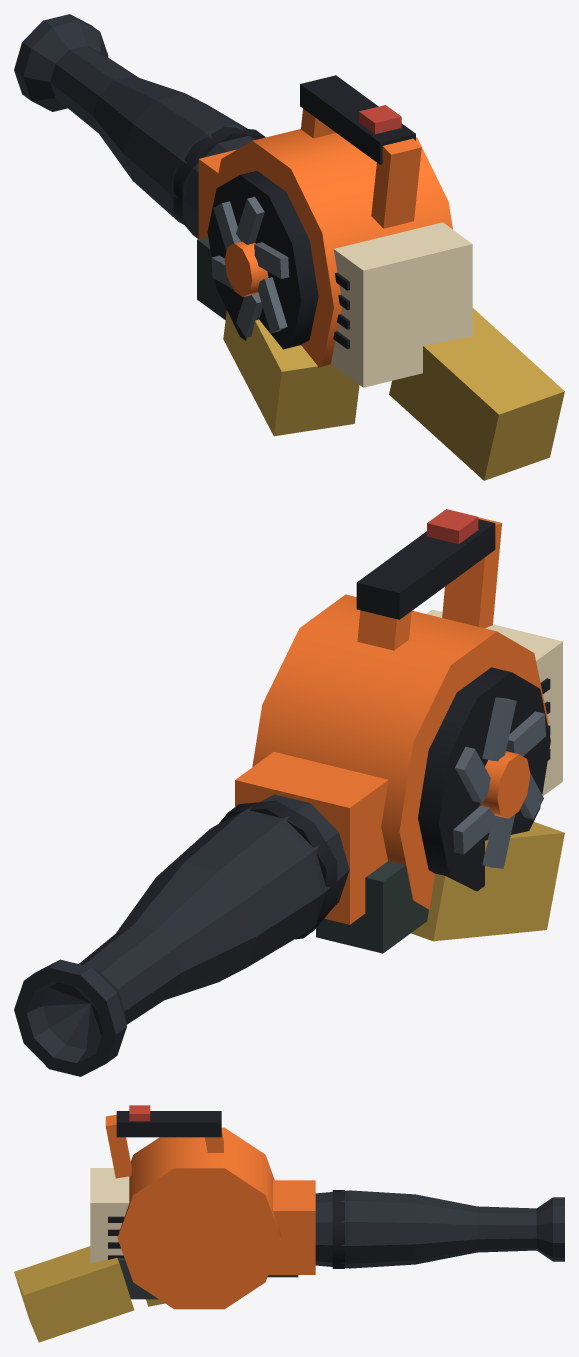
Rendered from leaf_blower.glb.
3 renders of one model, top to bottom at view 1: azimuth 30°, elevation 25°; view 2: azimuth 150°, elevation 25°; view 3: azimuth 270°, elevation 25°, orthographic. The views are drawn at different scales.
Visible parts, largest first — view 1: _MeshInstance3D_3741, _MeshInstance3D_3740, _MeshInstance3D_3768, _MeshInstance3D_3739, _MeshInstance3D_3762, _MeshInstance3D_3743, _MeshInstance3D_3745, _MeshInstance3D_3747, _MeshInstance3D_3754, _MeshInstance3D_3744, _MeshInstance3D_3742, _MeshInstance3D_3761 (+6 smaller); view 2: _MeshInstance3D_3741, _MeshInstance3D_3739, _MeshInstance3D_3743, _MeshInstance3D_3742, _MeshInstance3D_3762, _MeshInstance3D_3745, _MeshInstance3D_3761, _MeshInstance3D_3740, _MeshInstance3D_3747, _MeshInstance3D_3754, _MeshInstance3D_3744, _MeshInstance3D_3746 (+6 smaller); view 3: _MeshInstance3D_3739, _MeshInstance3D_3741, _MeshInstance3D_3768, _MeshInstance3D_3742, _MeshInstance3D_3740, _MeshInstance3D_3745, _MeshInstance3D_3754, _MeshInstance3D_3747, _MeshInstance3D_3767, _MeshInstance3D_3759.
Part boxes in pixels (<box>): _MeshInstance3D_3741: <box>14,14,255,232</box>; _MeshInstance3D_3740: <box>330,222,472,387</box>; _MeshInstance3D_3768: <box>389,308,564,480</box>; _MeshInstance3D_3739: <box>209,129,452,367</box>; _MeshInstance3D_3762: <box>223,310,359,436</box>; _MeshInstance3D_3743: <box>207,171,318,349</box>; _MeshInstance3D_3745: <box>300,75,415,164</box>; _MeshInstance3D_3747: <box>371,138,421,228</box>; _MeshInstance3D_3754: <box>173,126,265,238</box>; _MeshInstance3D_3744: <box>224,241,268,296</box>; _MeshInstance3D_3742: <box>198,149,236,238</box>; _MeshInstance3D_3761: <box>197,237,226,319</box>; _MeshInstance3D_3741: <box>14,794,349,1076</box>; _MeshInstance3D_3739: <box>252,594,548,909</box>; _MeshInstance3D_3743: <box>418,667,550,891</box>; _MeshInstance3D_3742: <box>235,752,388,924</box>; _MeshInstance3D_3762: <box>411,822,564,941</box>; _MeshInstance3D_3745: <box>356,519,495,619</box>; _MeshInstance3D_3761: <box>316,861,428,953</box>; _MeshInstance3D_3740: <box>426,609,562,795</box>; _MeshInstance3D_3747: <box>442,517,501,628</box>; _MeshInstance3D_3754: <box>219,800,337,939</box>; _MeshInstance3D_3744: <box>480,751,530,818</box>; _MeshInstance3D_3746: <box>357,610,411,650</box>; _MeshInstance3D_3739: <box>117,1127,281,1309</box>; _MeshInstance3D_3741: <box>315,1190,564,1268</box>; _MeshInstance3D_3768: <box>14,1246,134,1342</box>; _MeshInstance3D_3742: <box>268,1180,315,1274</box>; _MeshInstance3D_3740: <box>90,1168,129,1263</box>; _MeshInstance3D_3745: <box>116,1111,221,1137</box>; _MeshInstance3D_3754: <box>332,1190,344,1268</box>; _MeshInstance3D_3747: <box>105,1114,131,1178</box>; _MeshInstance3D_3767: <box>117,1258,158,1299</box>; _MeshInstance3D_3759: <box>129,1105,150,1121</box>.
Size of the model in its own units: 0.1447 by 0.2222 by 0.5457.
